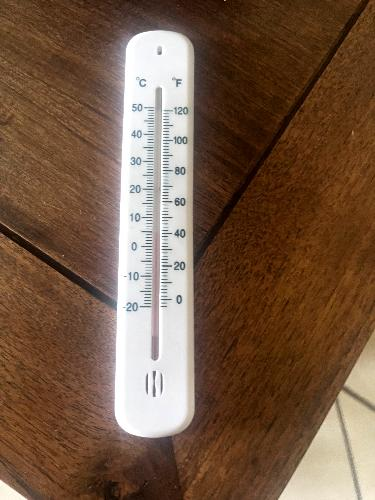thermo: (115, 27, 194, 439)
